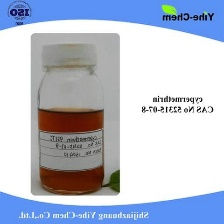insecticide: (34, 39, 109, 196)
